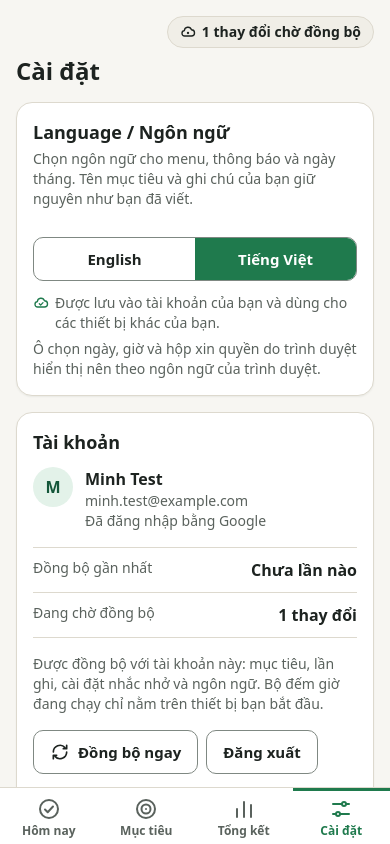
Test: Settings — Account card with cloud on (M6-AC6 … AC9, AC11) › Sign out → Remove: data removed, language kept, settings back to defaults, toast
Click the button "Đăng xuất". click: click(262, 752)
box: [206,730,318,774]
(page scrolled)
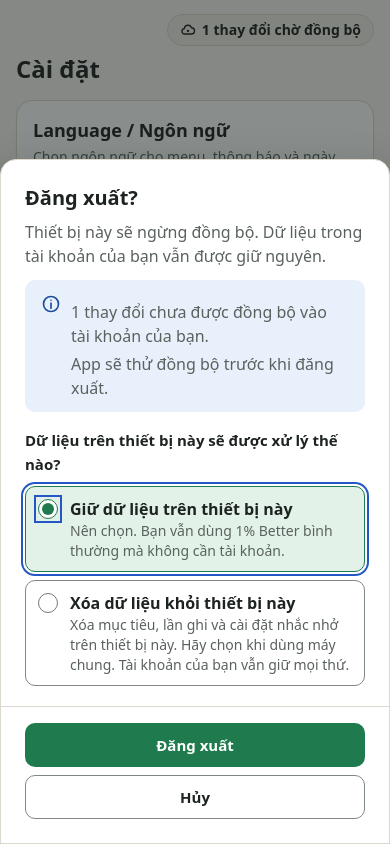
Click the radio button labelled "Xóa dữ liệu khỏi thiết bị này". click: click(48, 603)
box: [38,593,58,613]
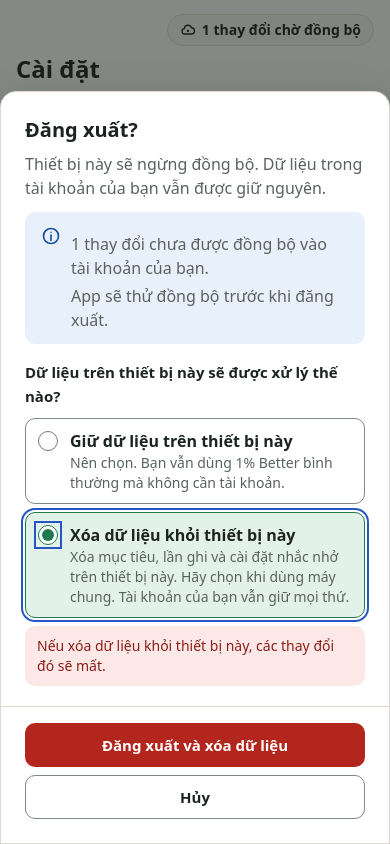
Expected: the button with test id "signout-confirm" reads "Đăng xuất và xóa dữ liệu"
Click the button with test id "signout-confirm". click: click(195, 745)
box: [25,723,365,767]
(page scrolled)
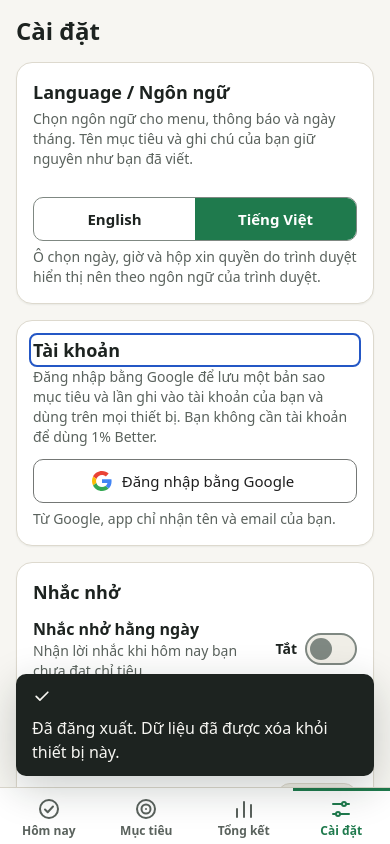
Expected: the element with test id "toast" reads "Đã đăng xuất. Dữ liệu đã được xóa khỏi thiết bị này.", [32,717,328,763]
